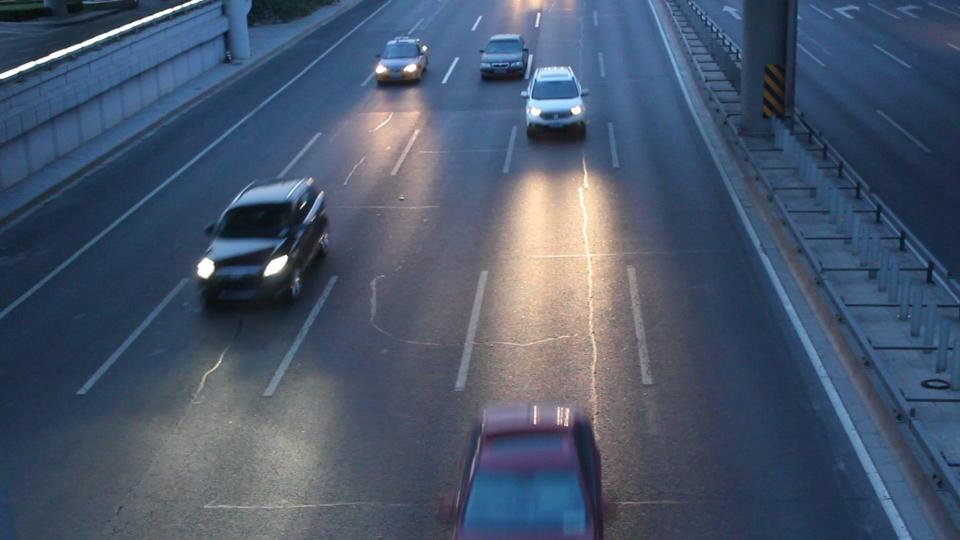Car: (451, 408, 603, 540), (195, 178, 326, 299), (522, 65, 586, 132), (375, 37, 427, 82), (479, 34, 527, 76)
